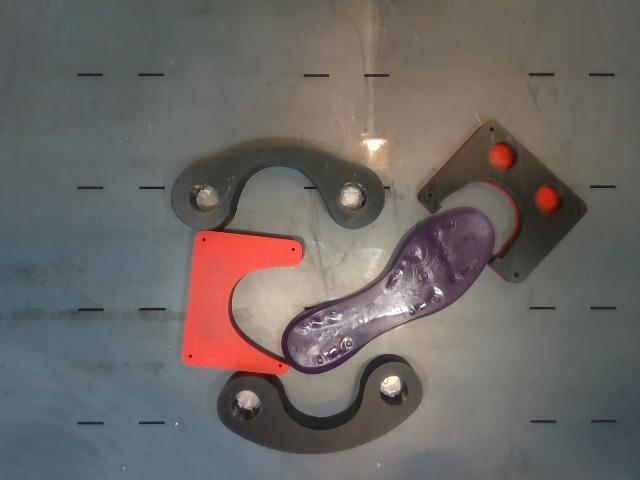shoes: (281, 209, 495, 374)
